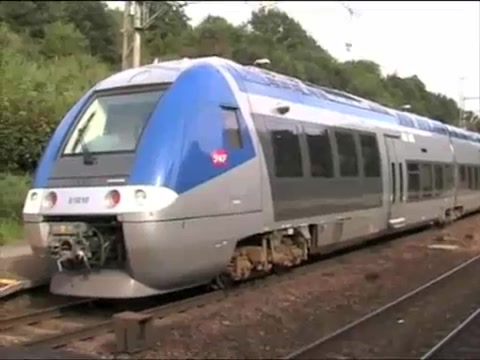train: (22, 55, 480, 305)
